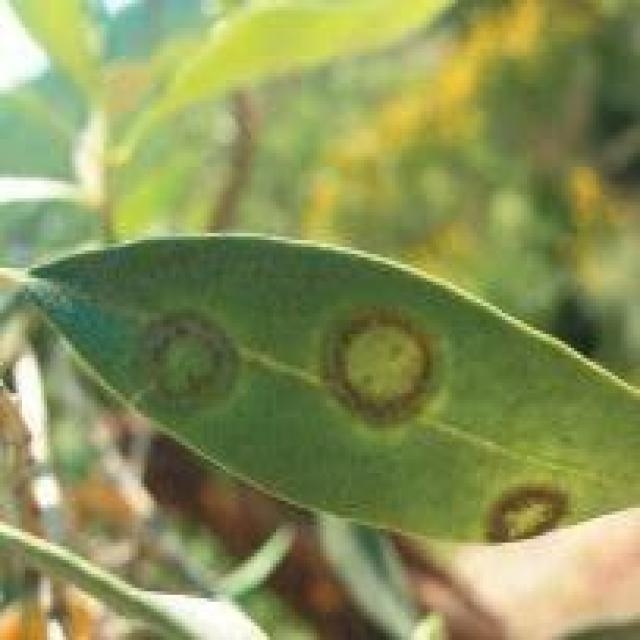Peacock Eye: (16, 233, 637, 536)
